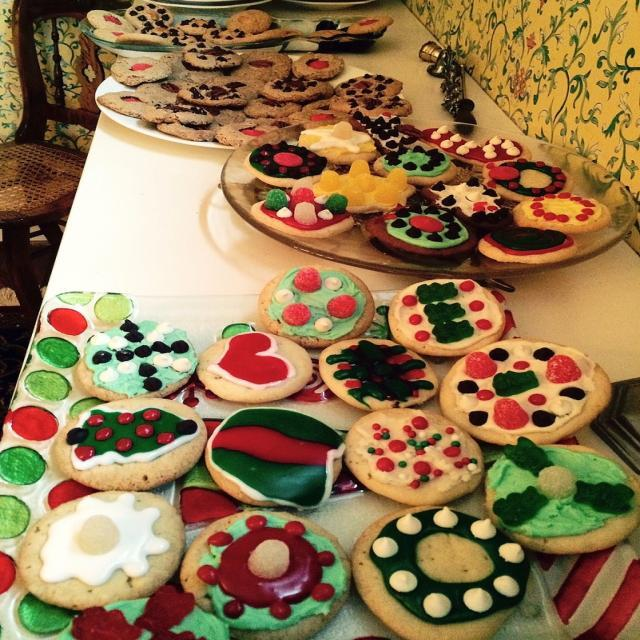Cookie: (16, 262, 640, 640), (247, 110, 609, 270), (84, 0, 416, 148)
